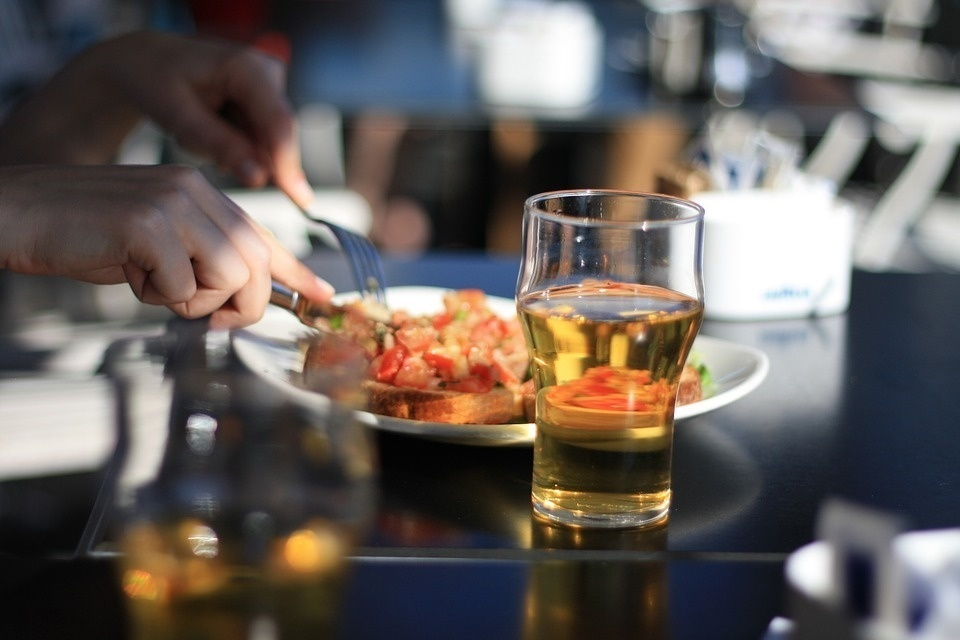whiskey: (520, 193, 720, 529)
